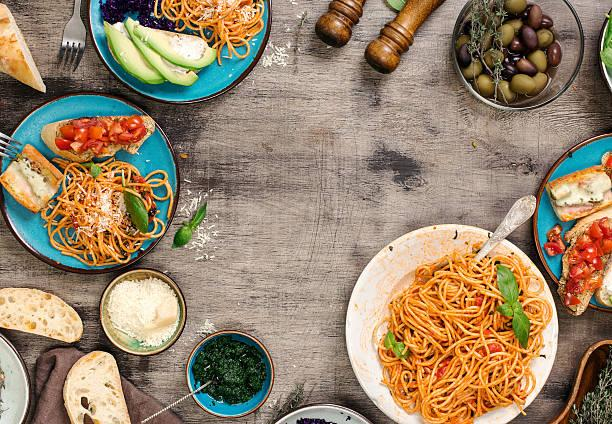Braised Crucian Carp: (344, 220, 562, 418), (4, 88, 185, 279), (89, 0, 275, 107), (450, 0, 581, 111)
